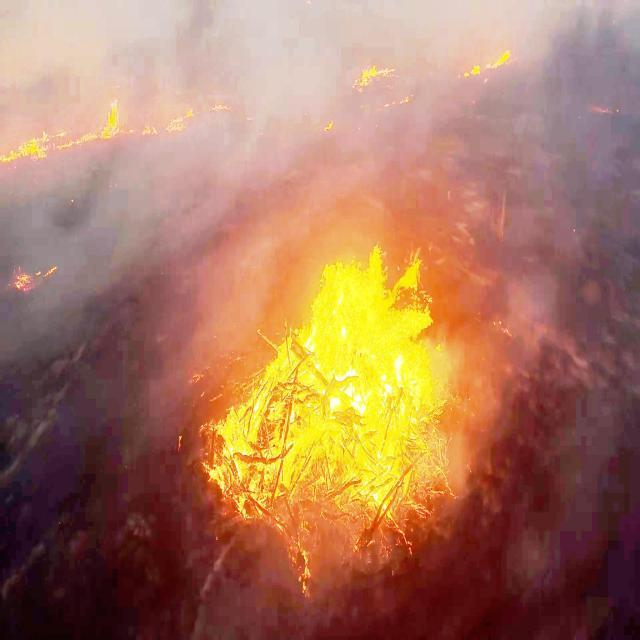Fire: (278, 228, 471, 520)
